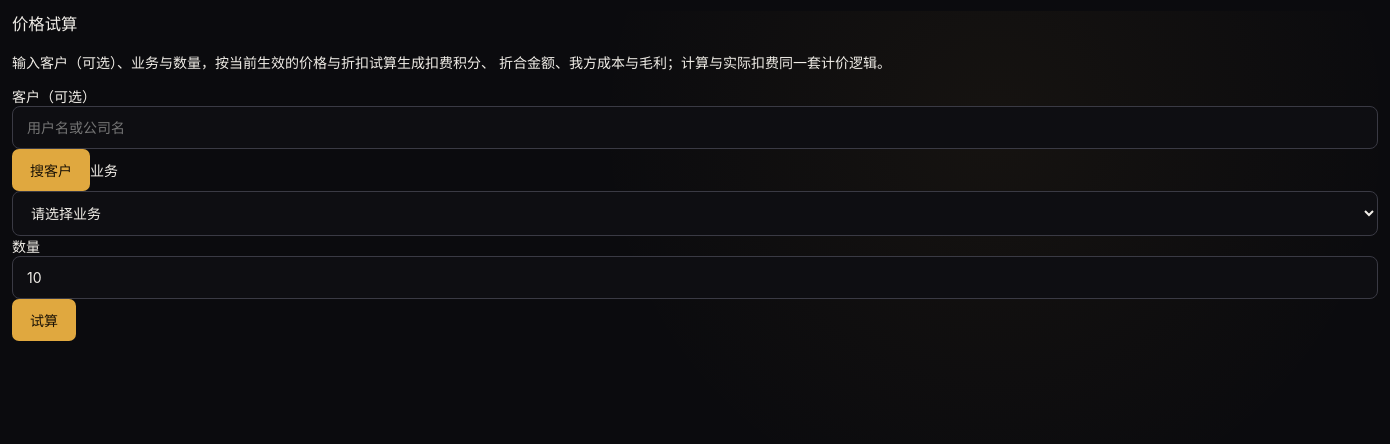
Test case: BillingQuoteCalculator › blocks a quote without a service or with a non-positive quantity
The width and height of the screenshot is (1390, 444).
Expected: the field with placeholder "用户名或公司名" is shown, [12, 106, 1378, 149]
Replace the text in the number field labelled "数量" with "0". click: {"x": 695, "y": 277}
box: [12, 256, 1378, 299]
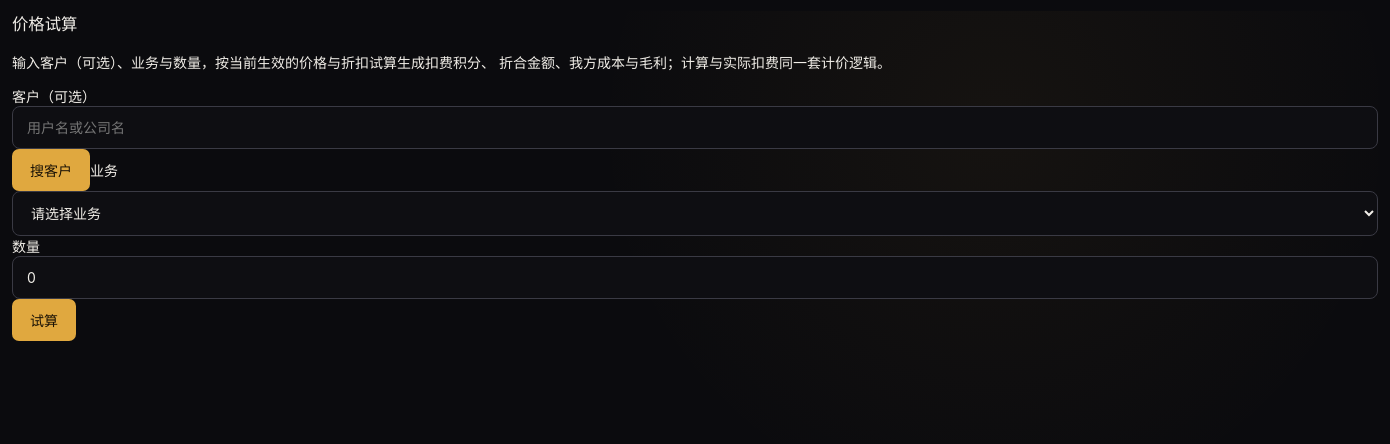
Submit the form "试算", box [12, 86, 1378, 341]
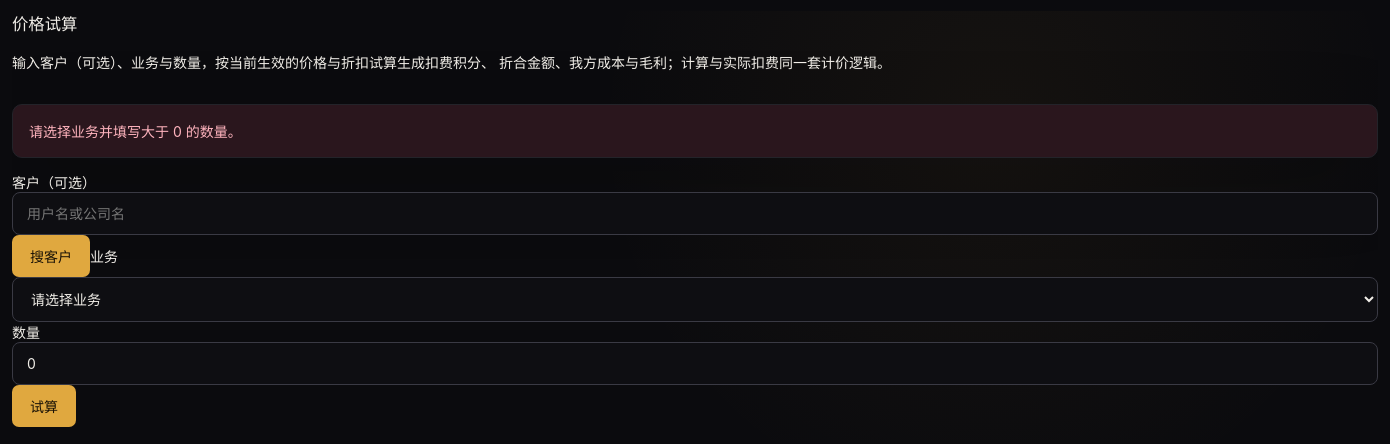
Expected: the message shows "请选择业务", [29, 123, 242, 140]
